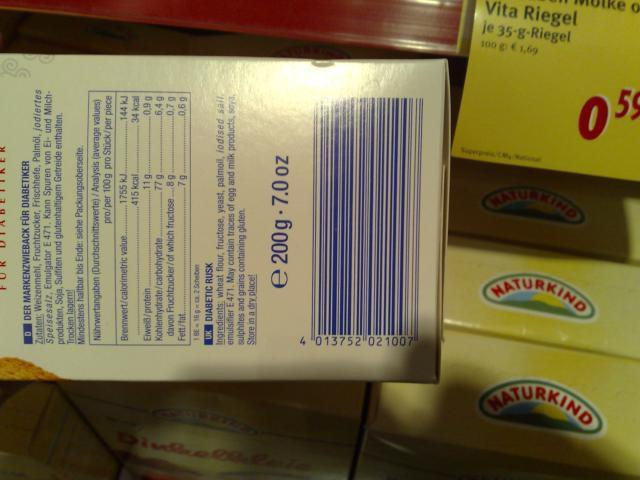Barcode: (295, 94, 436, 360)
